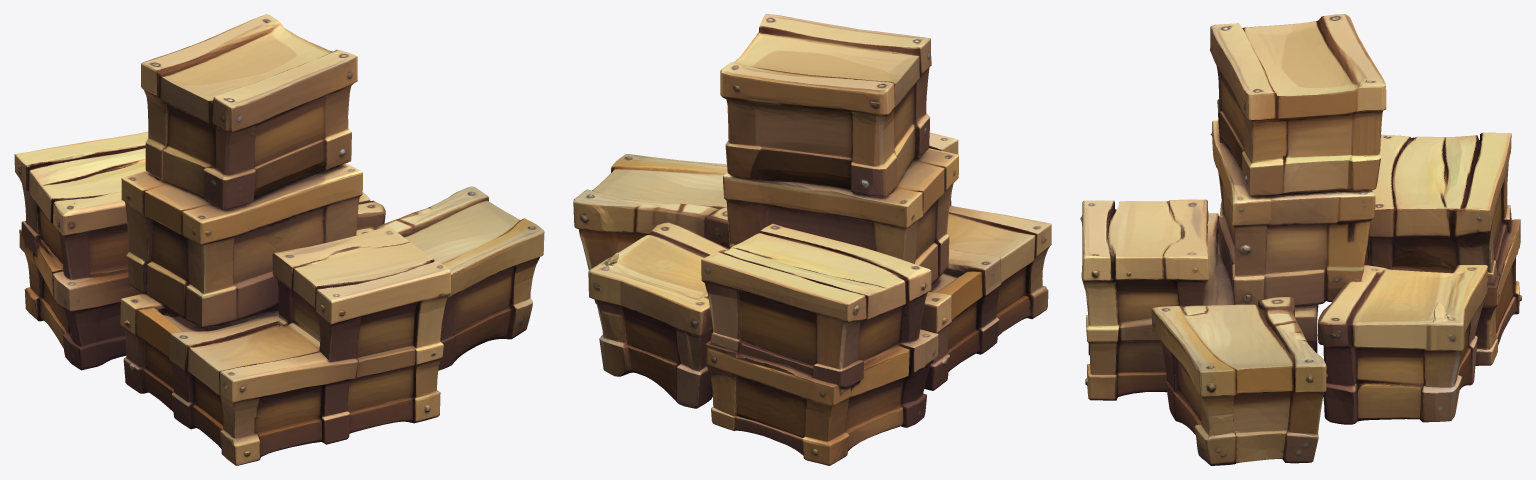
The model's file is crates.glb.
The picture shows the model from 3 angles, left to right: view 1: azimuth 30°, elevation 25°; view 2: azimuth 150°, elevation 25°; view 3: azimuth 270°, elevation 25°; orthographic projection.
Visible parts, largest first — view 1: world; view 2: world; view 3: world.
Boxes of the visible parts, box(x1,y1,x2,y2) form: world: box(14, 14, 544, 465); world: box(573, 14, 1051, 465); world: box(1080, 14, 1521, 465).
Bounding box in the file's own units: 0.989 × 0.734 × 0.9516.
Materials: 1 (1 with a texture image).
